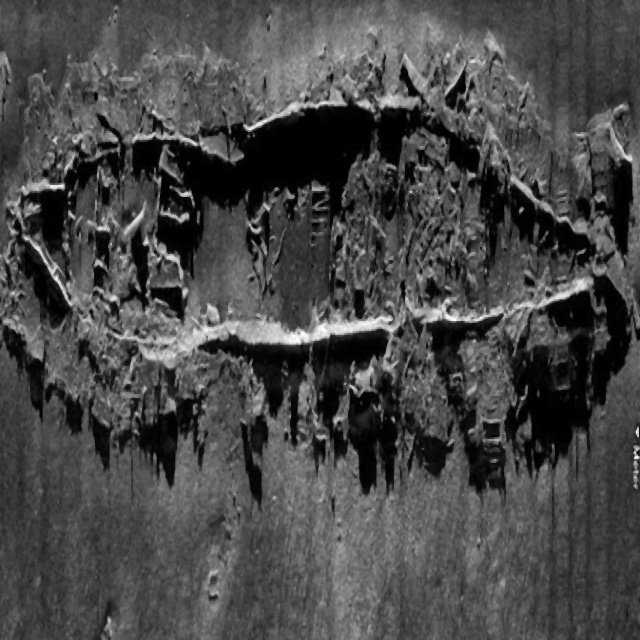Ship: (0, 37, 640, 479)
